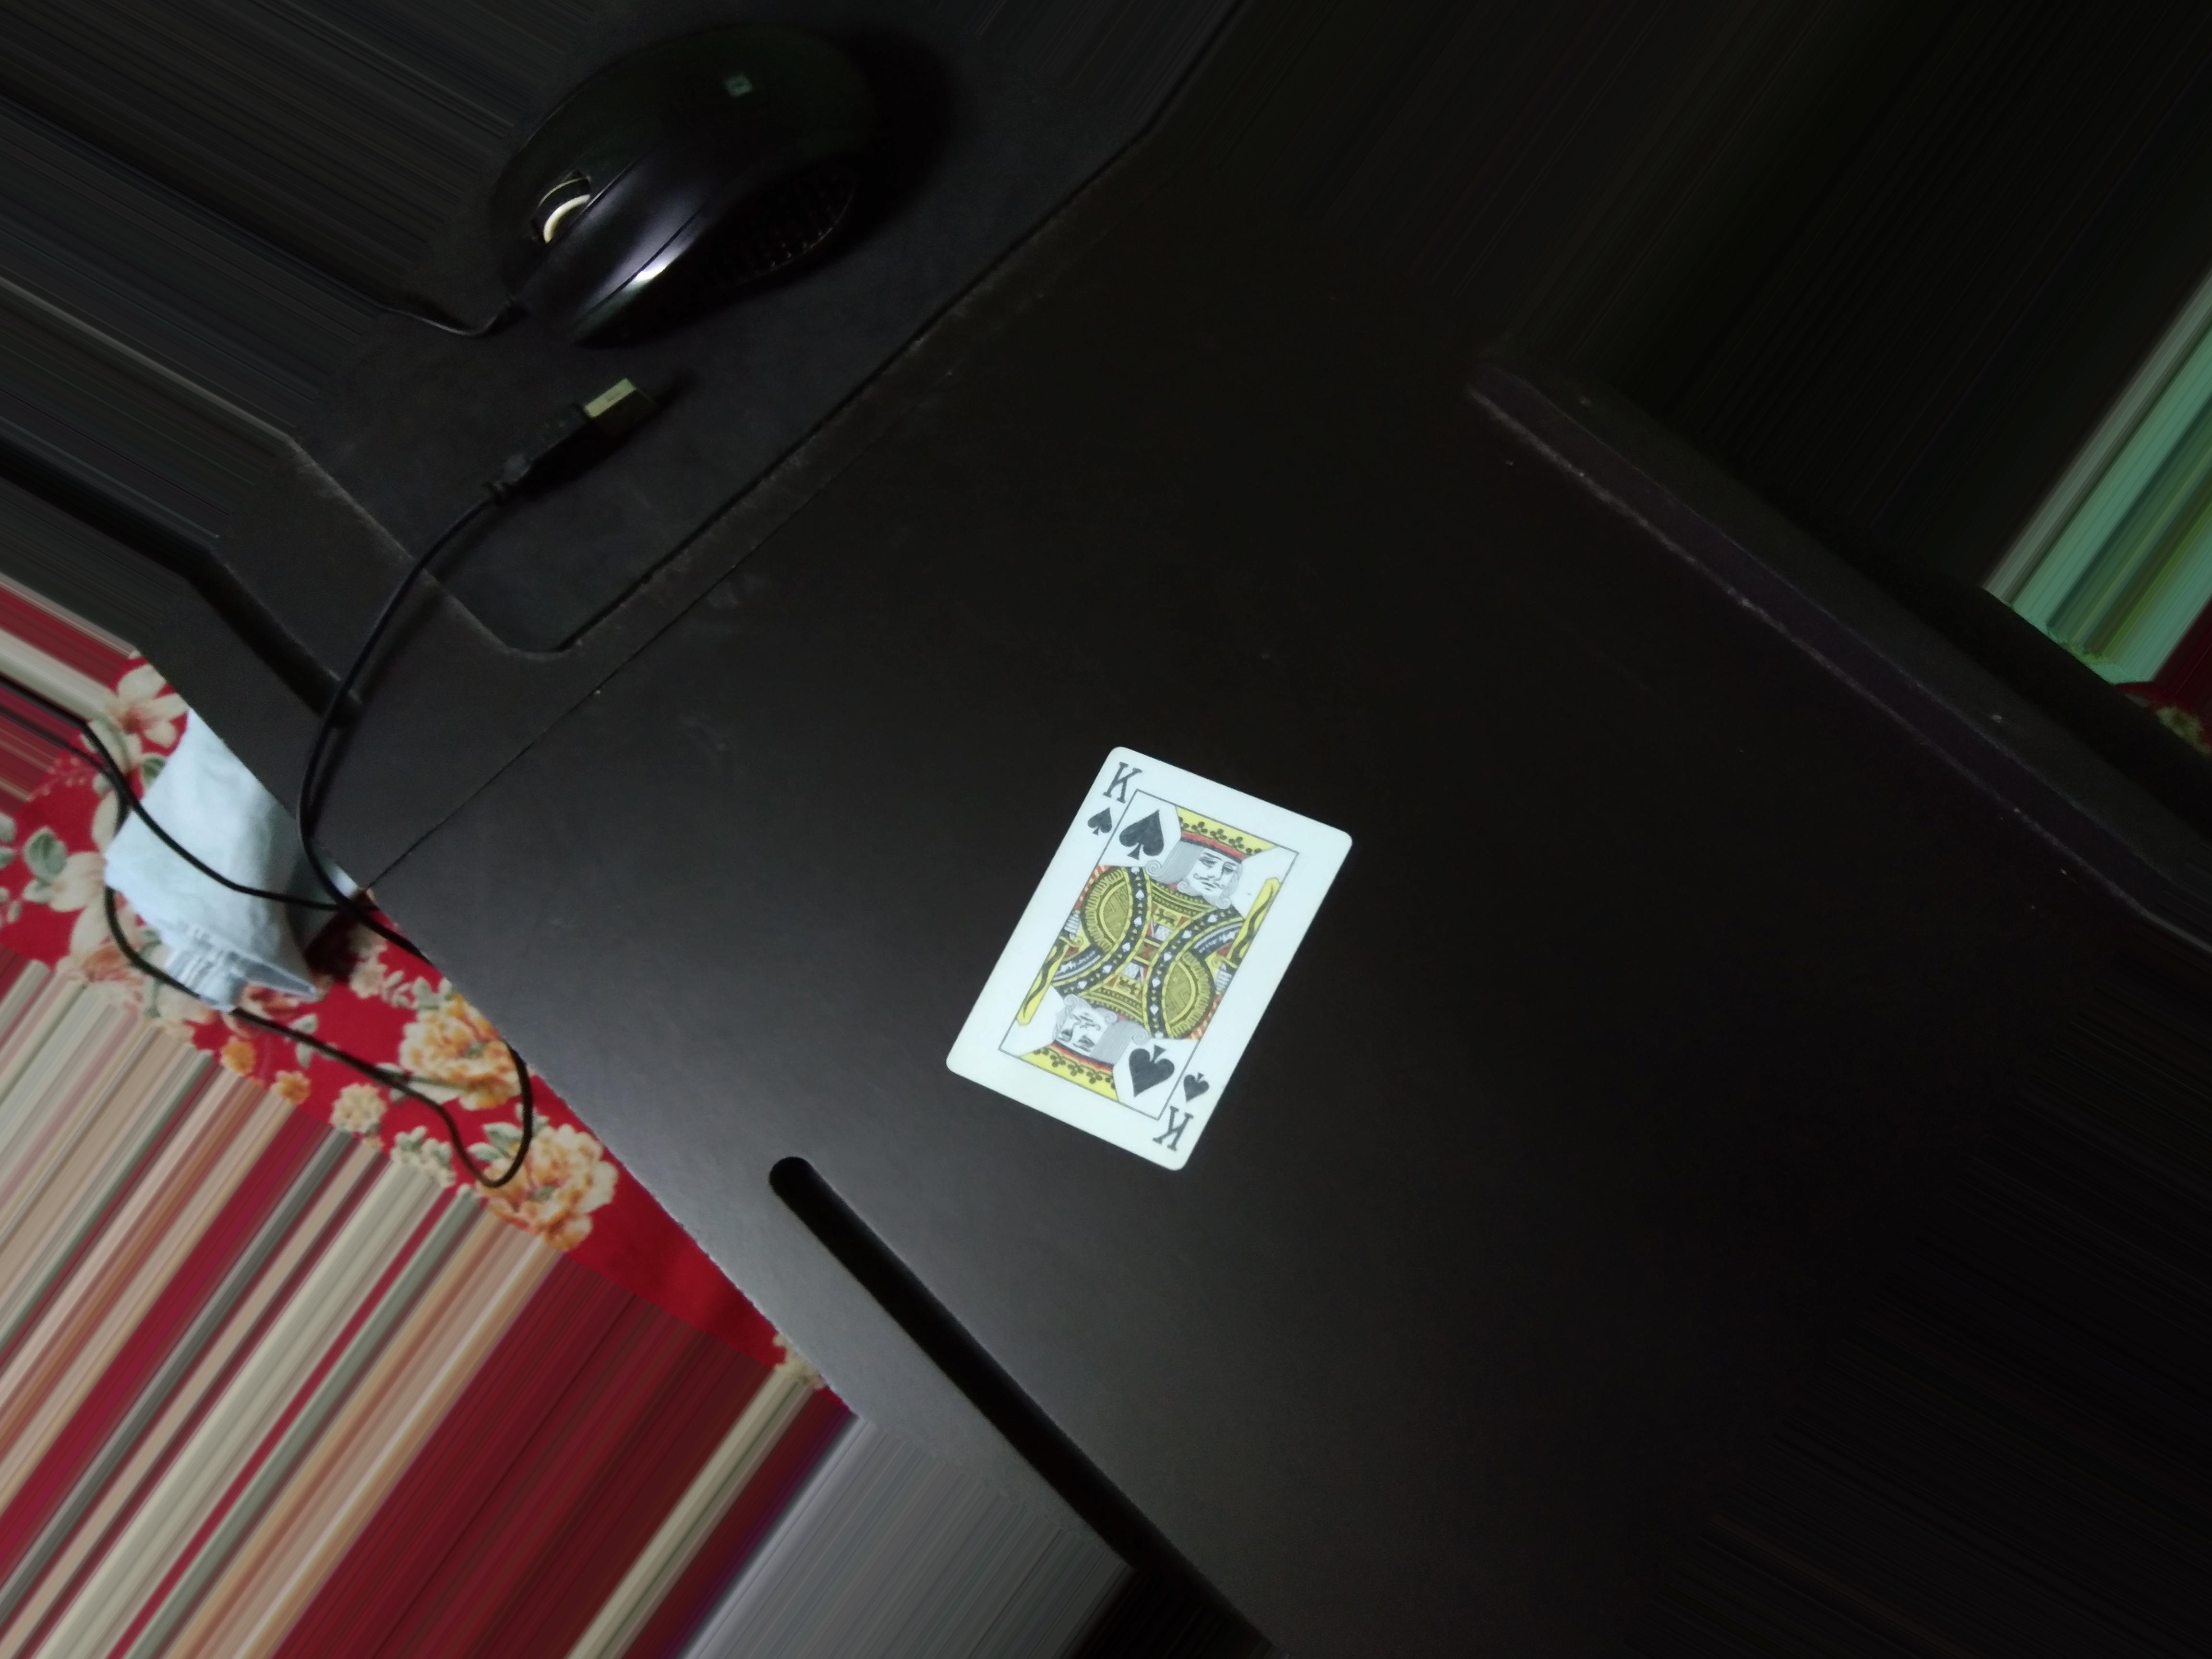KS: (1083, 756, 1144, 838)
